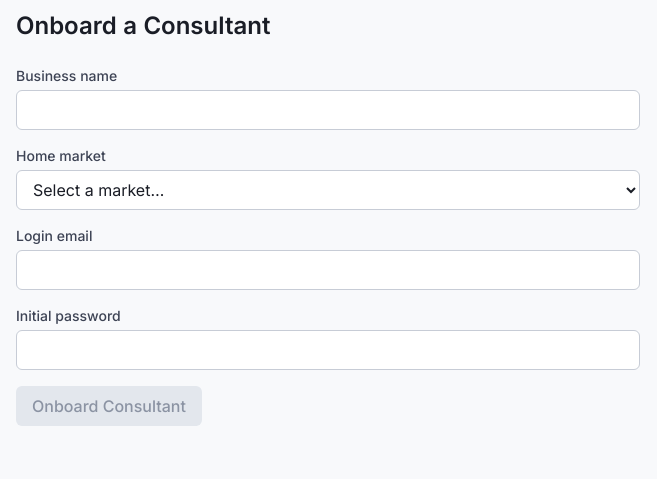
Test case: ConsultantOnboardingWizard › loading state: shows a loading message while fetching KYC rules for the selected market
Select "India" in the dropdown labelled "Home market" at (328, 190), box [16,170,640,210]
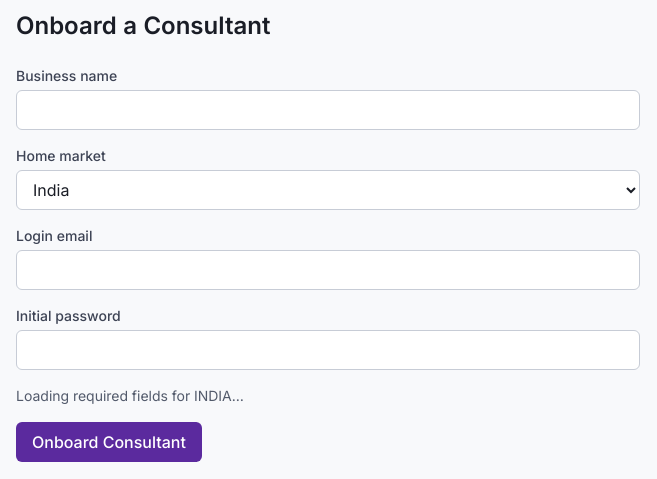
Result: the message shows "Loading required fields" at [16,387,194,404]
